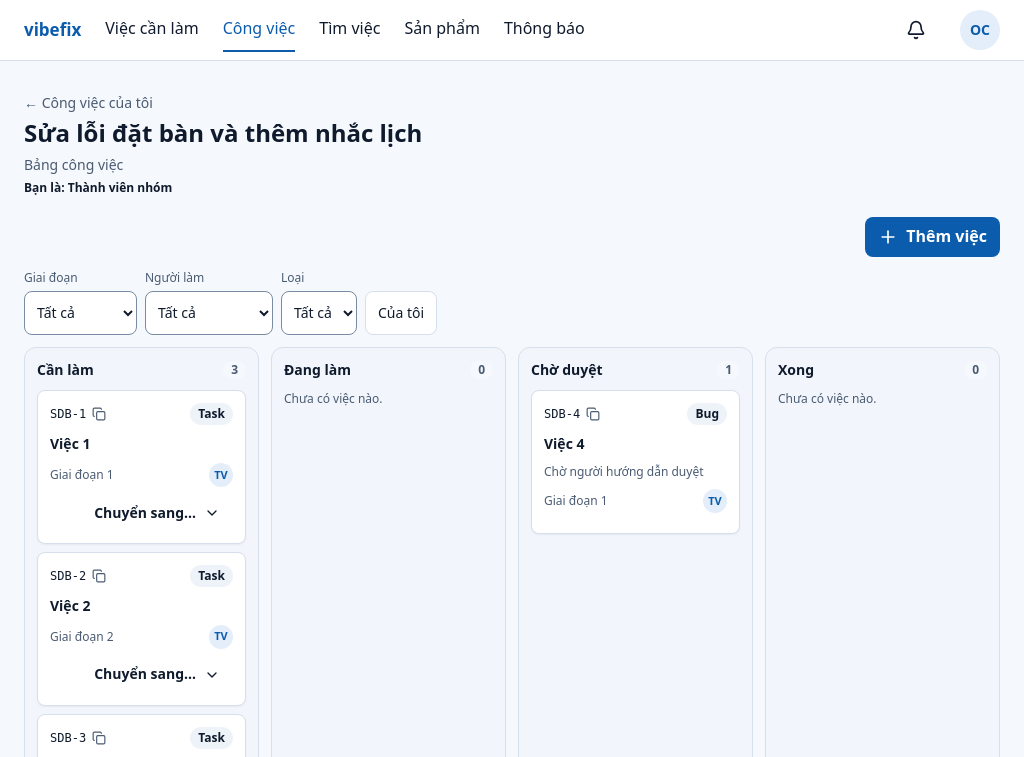
Test case: Board moves on JOB-2 (FR-24, AD-39, UX-DR36, UX-DR37) › moves the card back with a toast when the server refuses
Click the button with aria-label "Chuyển SDB-1 sang…" at (157, 513), box [81,495,233,531]
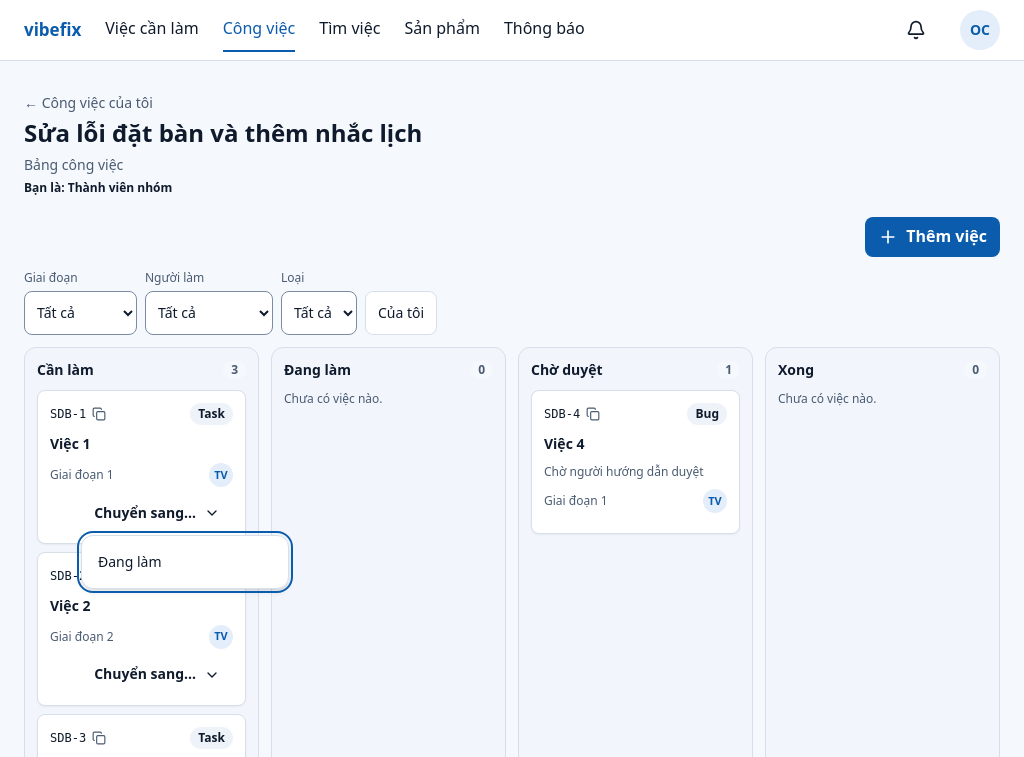
Click the menu item "Đang làm" at (130, 562), box [98,552,162,571]
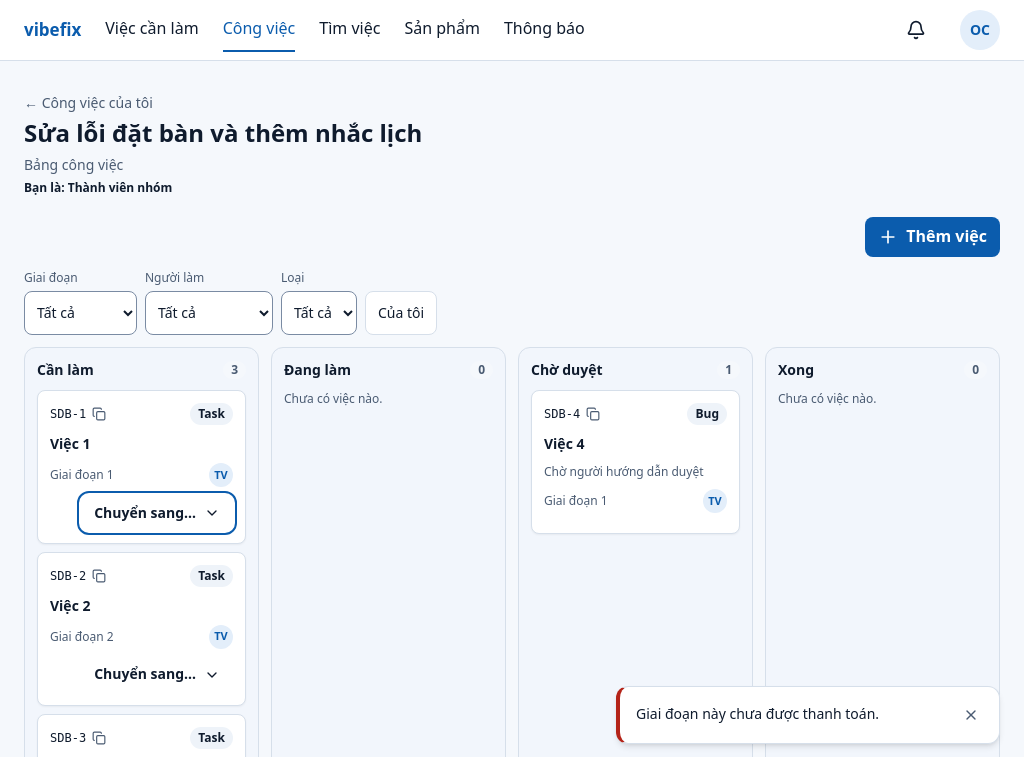
Expected: the button "Việc 1" is shown, [50,433,233,455]
Result: the heading "Giai đoạn này chưa được thanh toán." is shown at [636,704,879,723]
